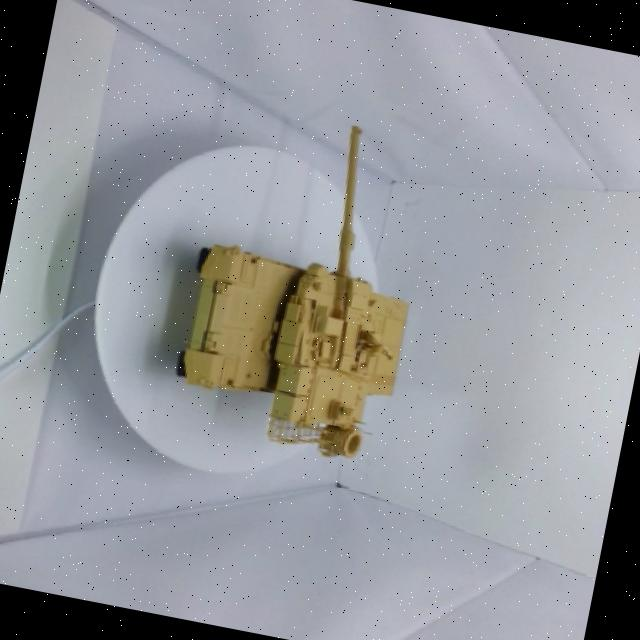korea tank: (122, 82, 485, 510)
